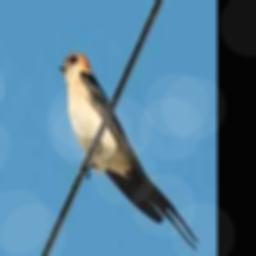Swallow: (58, 51, 198, 251)
